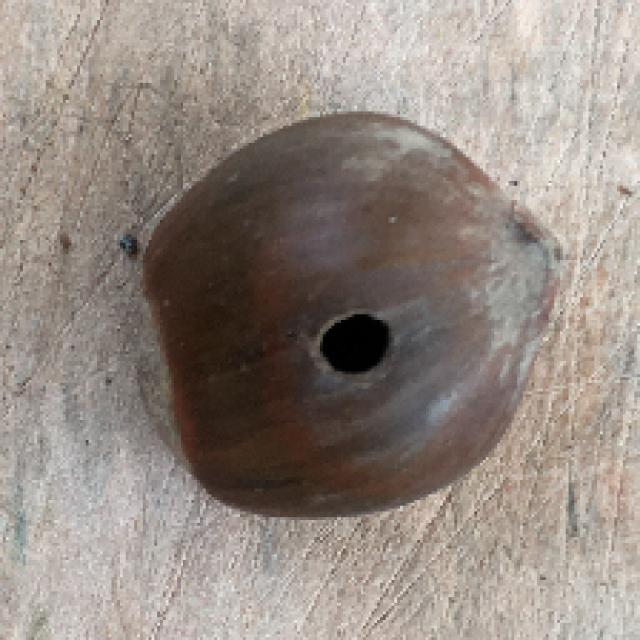damagedHazelnut: (128, 103, 560, 540)
